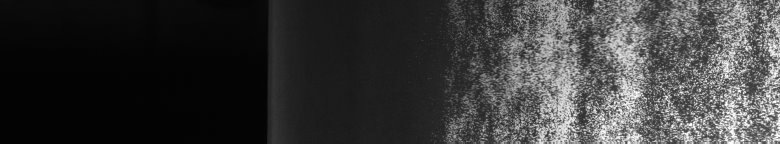kb: (464, 4, 776, 136)
